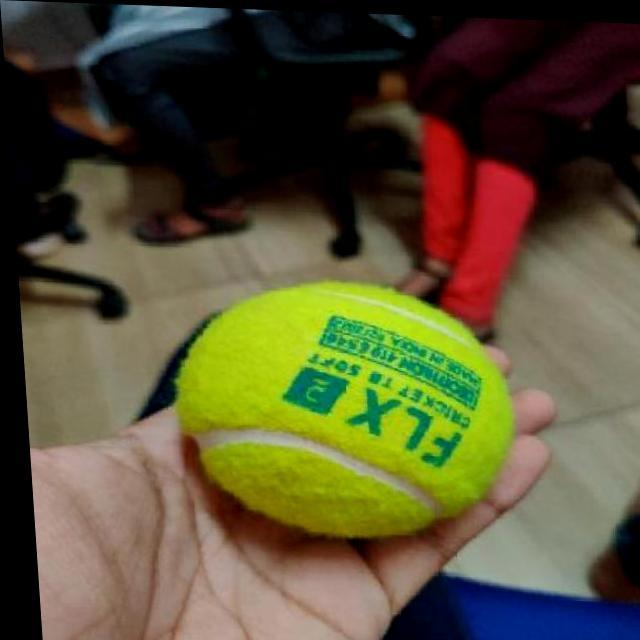-: (175, 270, 520, 544)
